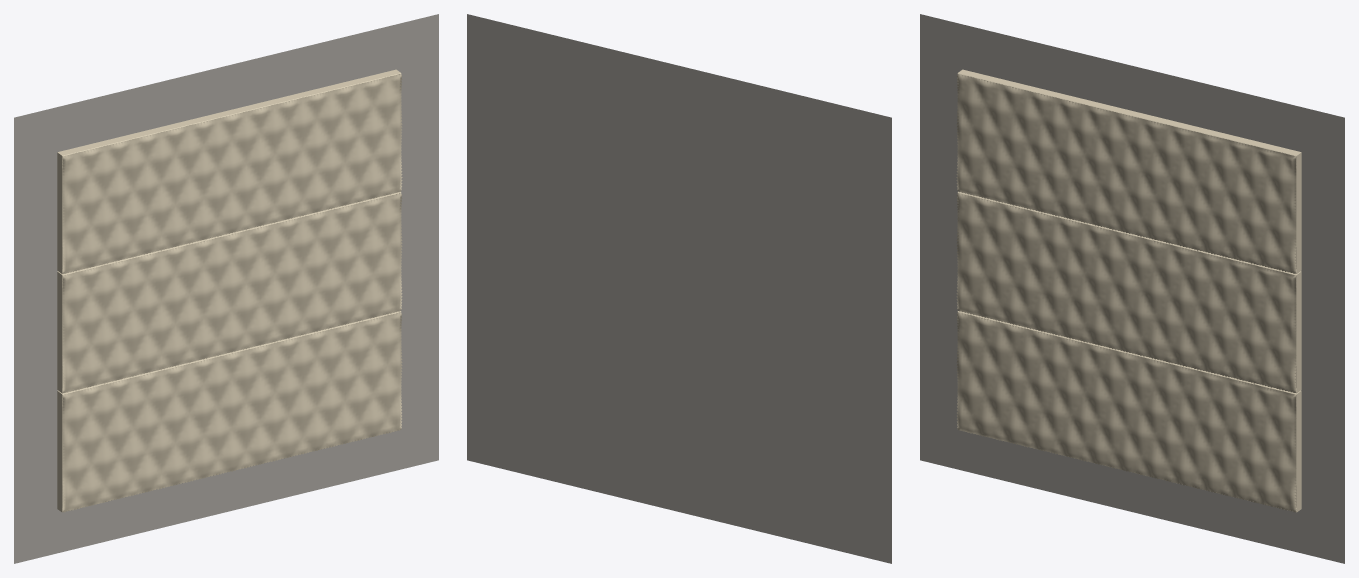
File: terilgan.glb
3 views of the same model, side by side, from view 1: azimuth 30°, elevation 25°; view 2: azimuth 150°, elevation 25°; view 3: azimuth 330°, elevation 25° (orthographic).
Visible parts, largest first — view 1: Plane, t2_0, t1_0, t0_0; view 2: Plane; view 3: Plane, t2_0, t1_0, t0_0.
Part boxes in pixels (x1=…): Plane: x1=14, y1=14, x2=438, y2=563; t2_0: x1=57, y1=69, x2=402, y2=273; t1_0: x1=57, y1=191, x2=402, y2=393; t0_0: x1=57, y1=311, x2=402, y2=512; Plane: x1=467, y1=14, x2=891, y2=563; Plane: x1=920, y1=14, x2=1344, y2=563; t2_0: x1=956, y1=69, x2=1301, y2=273; t1_0: x1=956, y1=191, x2=1301, y2=393; t0_0: x1=956, y1=311, x2=1301, y2=512.
Size of the model in its own units: 1.5 by 1.51 by 0.0449.
